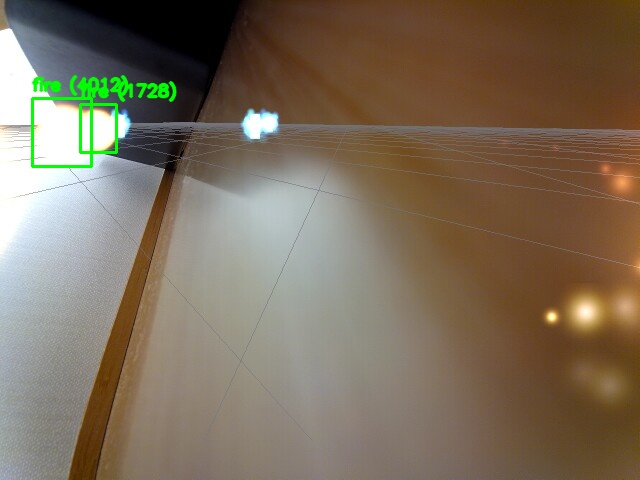fire: (32, 98, 91, 166), (80, 104, 116, 152)
